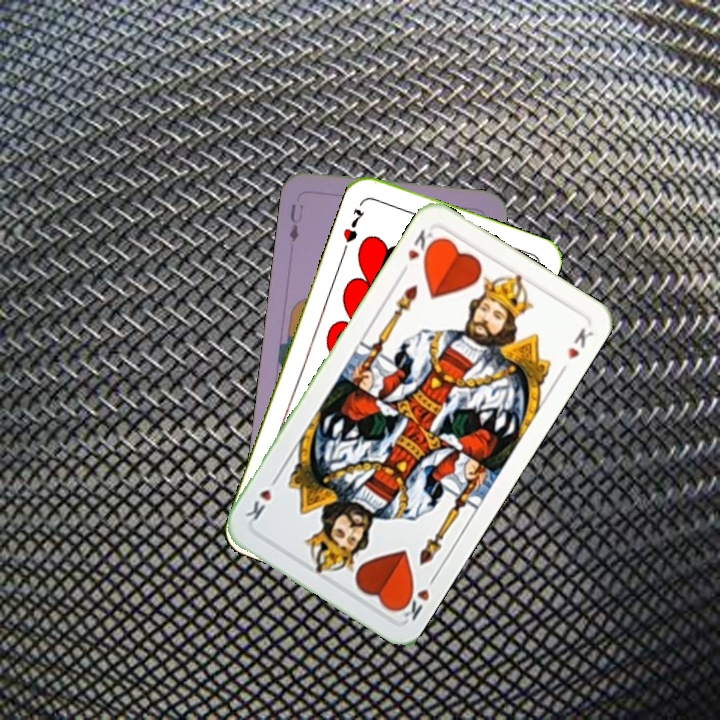EU: (285, 199, 306, 245)
H7: (339, 204, 367, 245)
HK: (394, 570, 440, 624), (396, 225, 440, 278)
